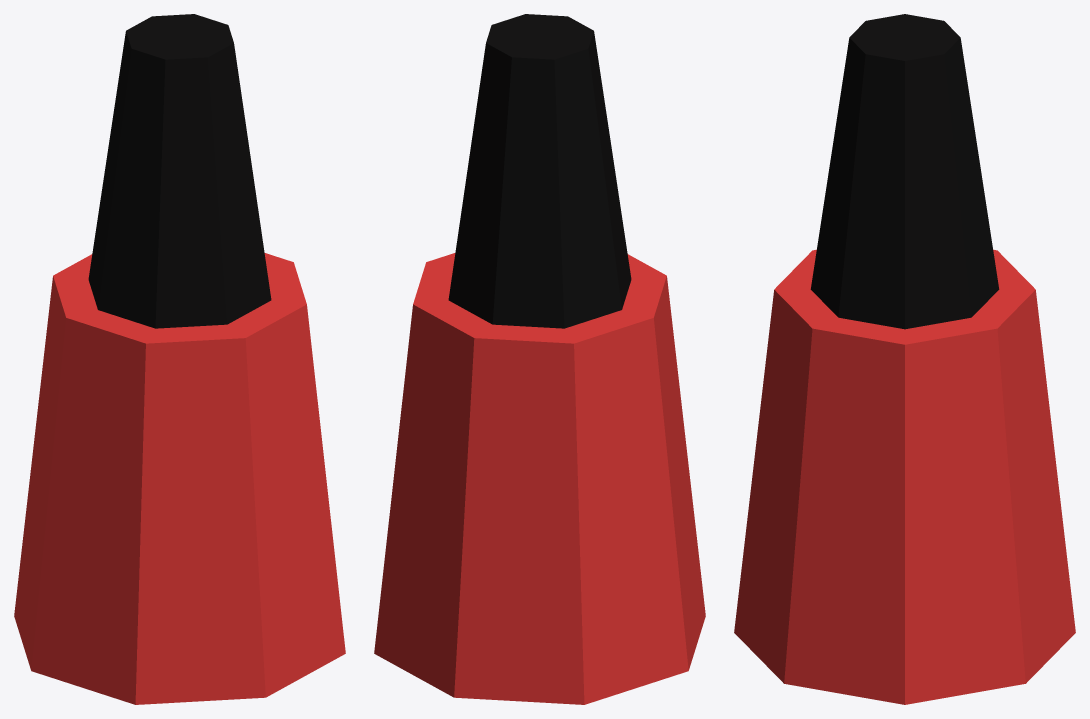
Rendered from polish 1.fbx.
The picture shows the model from 3 angles, left to right: view 1: azimuth 30°, elevation 25°; view 2: azimuth 150°, elevation 25°; view 3: azimuth 270°, elevation 25°; orthographic projection.
Visible parts, largest first — view 1: polish 1; view 2: polish 1; view 3: polish 1.
Boxes of the visible parts, x1=… form: polish 1: x1=14, y1=14, x2=345, y2=704; polish 1: x1=374, y1=14, x2=705, y2=704; polish 1: x1=734, y1=14, x2=1075, y2=704.
Bounding box in the file's own units: 0.1475 × 0.2834 × 0.1475.
